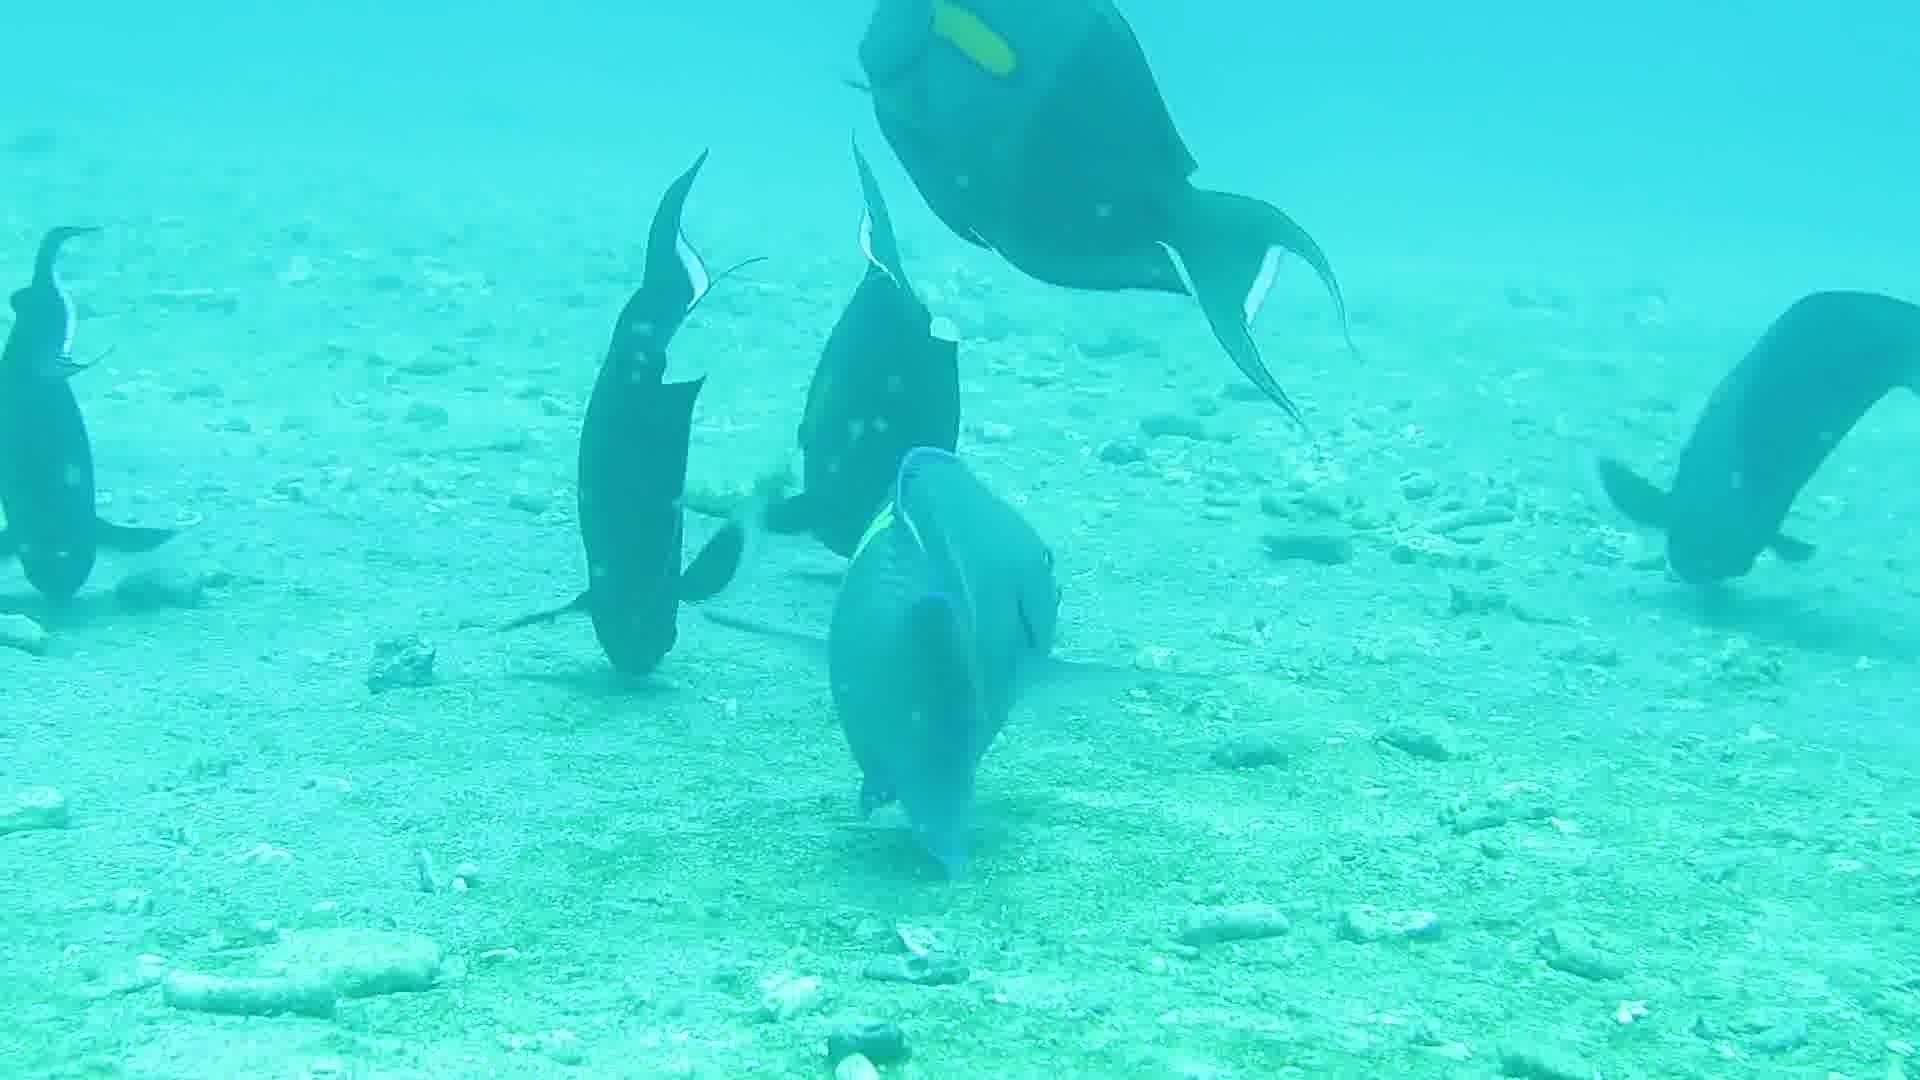Acanthurus olivaceus: (865, 1, 1371, 291), (1593, 239, 1920, 629), (545, 224, 789, 703), (1, 170, 243, 650), (822, 451, 1069, 819), (822, 154, 1000, 498)
